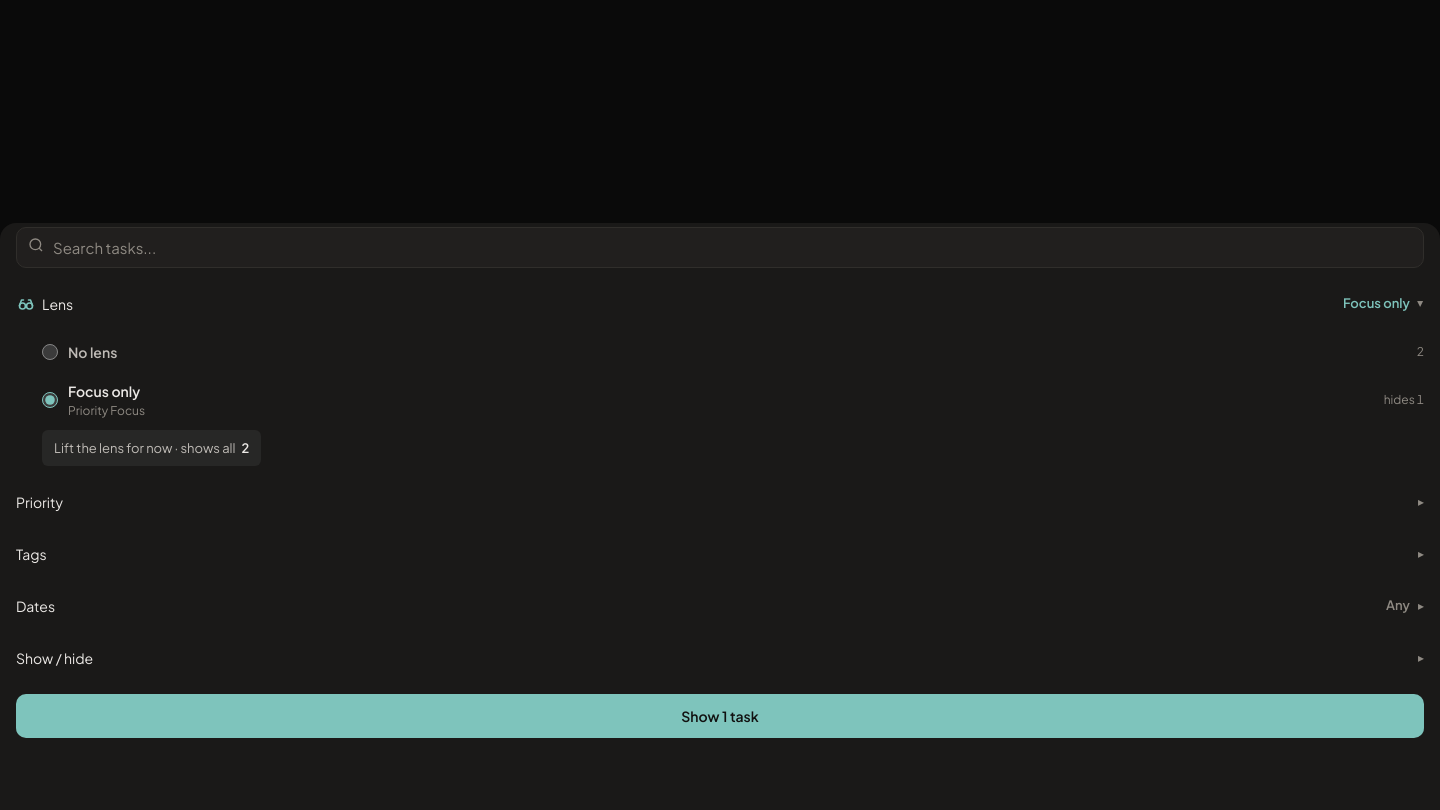
Test: the phone filter sheet’s Lens section › Lift the lens for now toggles the lift, the pick kept
Click the button "Lift the lens for now · shows all 2" at (152, 448), box [42, 430, 261, 466]
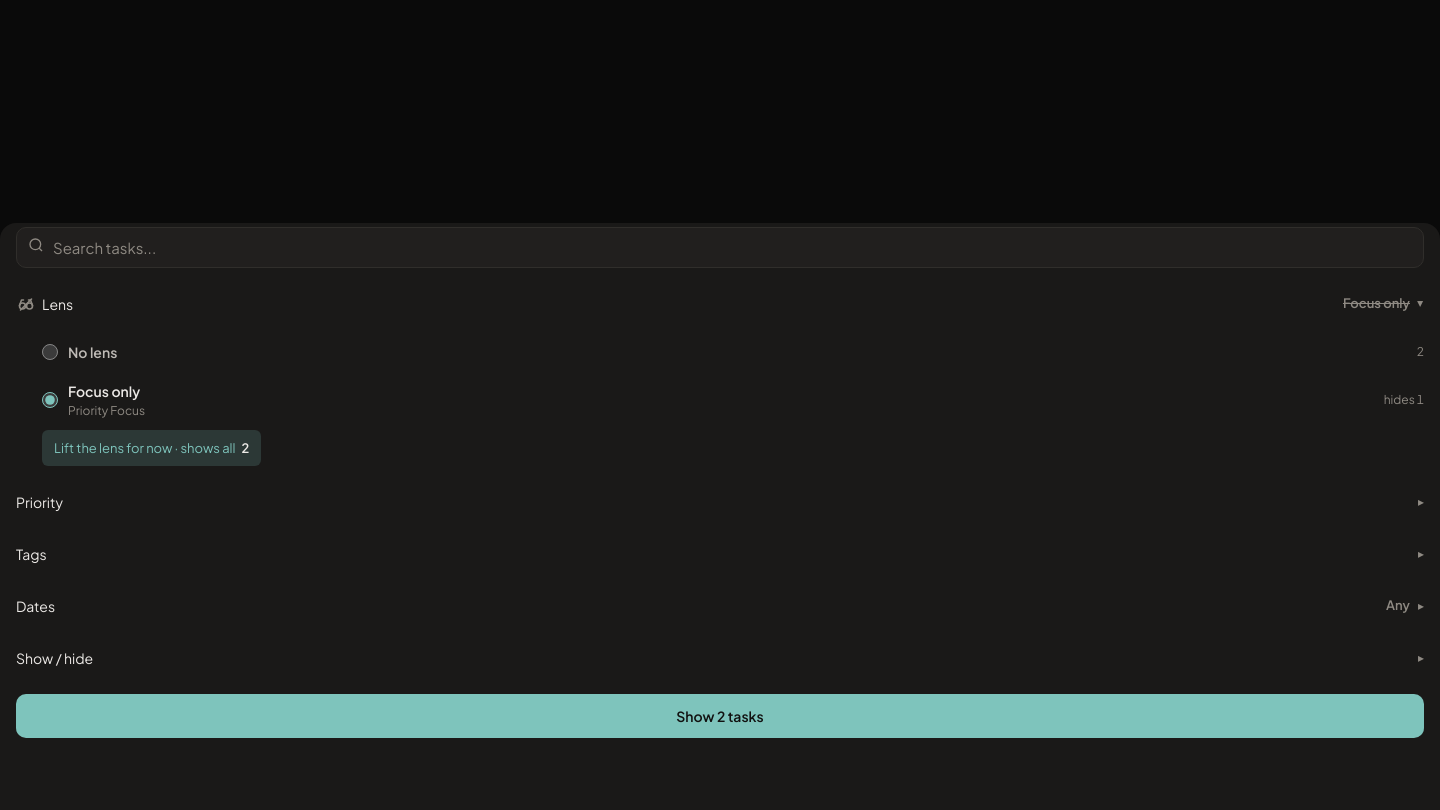
Expected: the button "Show 2 tasks" is shown, [16, 694, 1424, 738]
